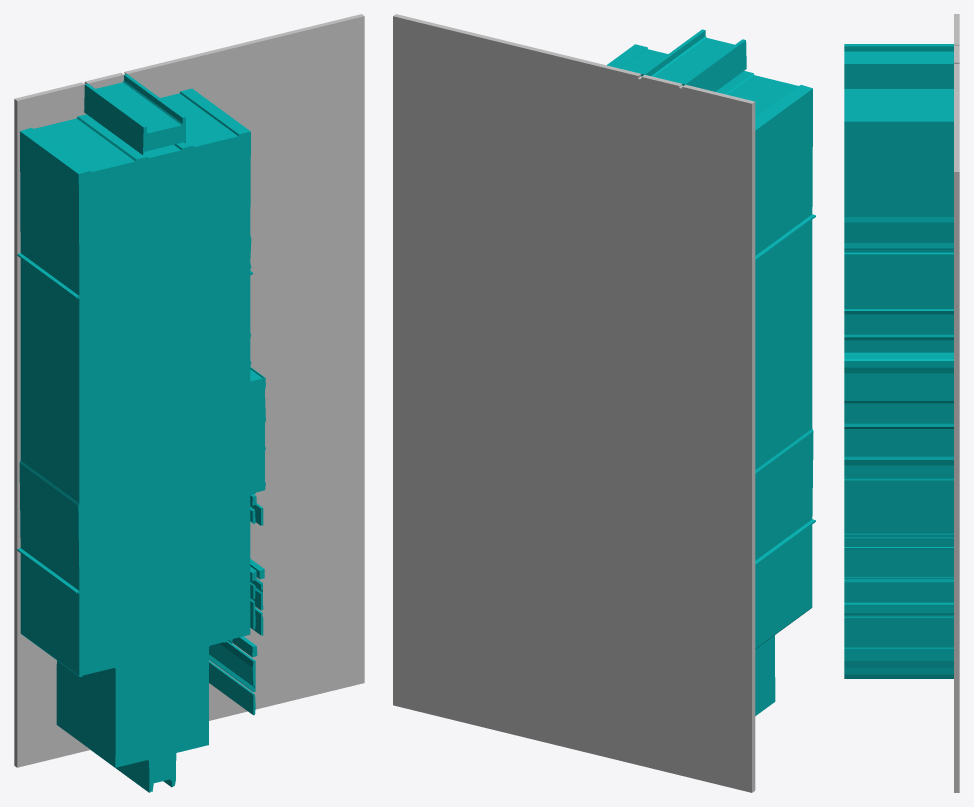
3 renders of one model, left to right at view 1: azimuth 30°, elevation 25°; view 2: azimuth 150°, elevation 25°; view 3: azimuth 270°, elevation 25°, orthographic. The views are drawn at different scales.
Visible parts, largest first — view 1: world; view 2: world; view 3: world.
Part boxes in pixels (x1=…): world: x1=14, y1=14, x2=364, y2=792; world: x1=393, y1=14, x2=815, y2=792; world: x1=844, y1=14, x2=959, y2=792.
Bounding box in the file's own units: 10.23 × 18.76 × 3.15.
